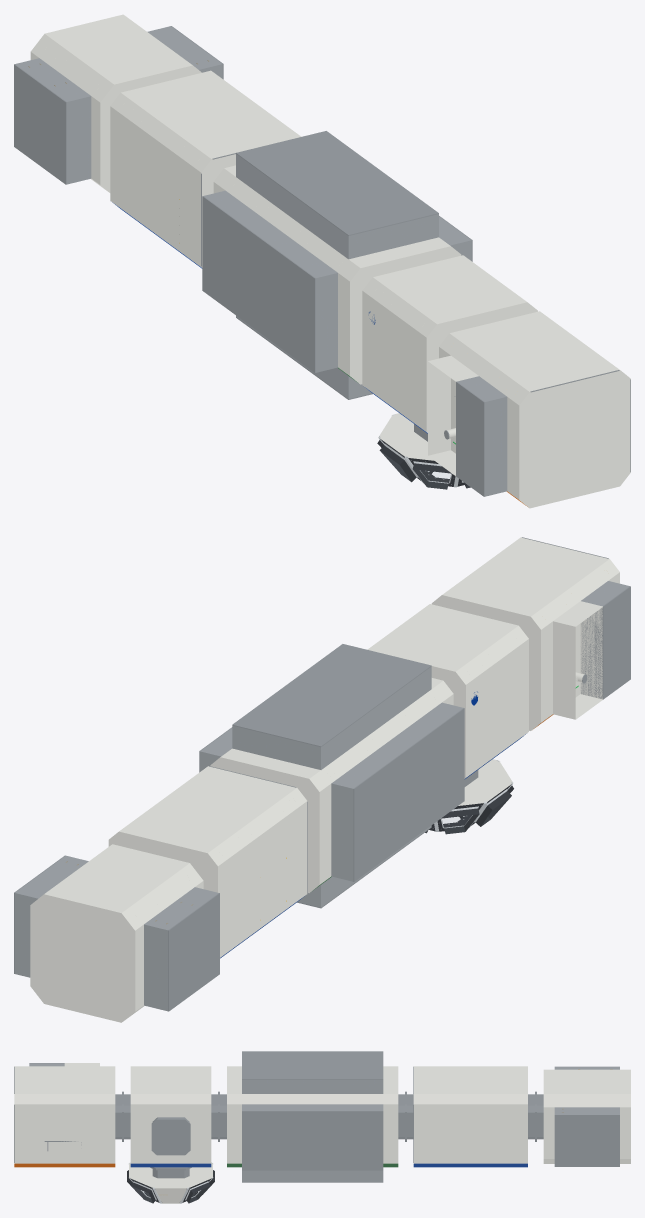
The model's file is estacion.glb.
3 views of the same model, one above another, from view 1: azimuth 30°, elevation 25°; view 2: azimuth 150°, elevation 25°; view 3: azimuth 270°, elevation 25° (orthographic). The views are drawn at different scales.
Parts seen in each view (by area): view 1: T_Casco_Tacuarembo, C_Casco_Colonia, N_Casco_Nodo, C_Casco_Carguero, R_Casco, C_Bahia_B, T_Rack_TAC-B1, R_Rack_RIV-B1, R_Rack_RIV-T1, R_Rack_RIV-B2, R_Rack_RIV-B3, R_Rack_RIV-B4 (+8 smaller); view 2: C_Casco_Colonia, C_Casco_Carguero, N_Casco_Nodo, T_Casco_Tacuarembo, R_Casco, C_Bahia_B, R_Rack_RIV-B4, R_Rack_RIV-T4, T_Rack_TAC-B2, T_Rack_TAC-B1, R_Rack_RIV-B3, R_Rack_RIV-B1 (+8 smaller); view 3: C_Casco_Colonia, T_Casco_Tacuarembo, N_Casco_Nodo, R_Casco, C_Casco_Carguero, C_Bahia_E, F_Casco_Cupula, R_Rack_RIV-E1, R_Rack_RIV-E2, R_Rack_RIV-E3, R_Rack_RIV-E4, R_Rack_RIV-T1 (+9 smaller).
Part boxes in pixels (left/top/right/bottom): T_Casco_Tacuarembo: left=439, top=311, right=630, bottom=508; C_Casco_Colonia: left=110, top=70, right=301, bottom=268; N_Casco_Nodo: left=362, top=255, right=537, bottom=433; C_Casco_Carguero: left=30, top=14, right=201, bottom=192; R_Casco: left=213, top=165, right=461, bottom=384; C_Bahia_B: left=14, top=58, right=91, bottom=184; T_Rack_TAC-B1: left=456, top=376, right=507, bottom=496; R_Rack_RIV-B1: left=286, top=252, right=337, bottom=372; R_Rack_RIV-T1: left=320, top=192, right=438, bottom=259; R_Rack_RIV-B2: left=258, top=231, right=309, bottom=351; R_Rack_RIV-B3: left=230, top=211, right=281, bottom=331; R_Rack_RIV-B4: left=202, top=190, right=253, bottom=310; C_Casco_Colonia: left=108, top=766, right=307, bottom=958; C_Casco_Carguero: left=30, top=844, right=203, bottom=1022; N_Casco_Nodo: left=367, top=604, right=528, bottom=779; T_Casco_Tacuarembo: left=431, top=537, right=619, bottom=730; R_Casco: left=210, top=678, right=453, bottom=893; C_Bahia_B: left=144, top=887, right=219, bottom=1011; R_Rack_RIV-B4: left=331, top=763, right=381, bottom=881; R_Rack_RIV-T4: left=232, top=704, right=348, bottom=769; T_Rack_TAC-B2: left=553, top=601, right=602, bottom=719; T_Rack_TAC-B1: left=581, top=581, right=630, bottom=699; R_Rack_RIV-B3: left=359, top=743, right=409, bottom=861; R_Rack_RIV-B1: left=414, top=702, right=464, bottom=820; C_Casco_Colonia: left=407, top=1066, right=534, bottom=1167; T_Casco_Tacuarembo: left=14, top=1066, right=121, bottom=1167; N_Casco_Nodo: left=124, top=1066, right=217, bottom=1167; R_Casco: left=220, top=1066, right=404, bottom=1167; C_Casco_Carguero: left=537, top=1069, right=630, bottom=1163; C_Bahia_E: left=554, top=1107, right=619, bottom=1166; F_Casco_Cupula: left=127, top=1162, right=214, bottom=1203; R_Rack_RIV-E1: left=242, top=1104, right=277, bottom=1170; R_Rack_RIV-E2: left=277, top=1104, right=312, bottom=1170; R_Rack_RIV-E3: left=312, top=1104, right=347, bottom=1170; R_Rack_RIV-E4: left=348, top=1104, right=383, bottom=1170; R_Rack_RIV-T1: left=242, top=1051, right=277, bottom=1093.
Size of the model in its own units: 3.4 by 4.37 by 18.35.
12 materials, 11 textured.
